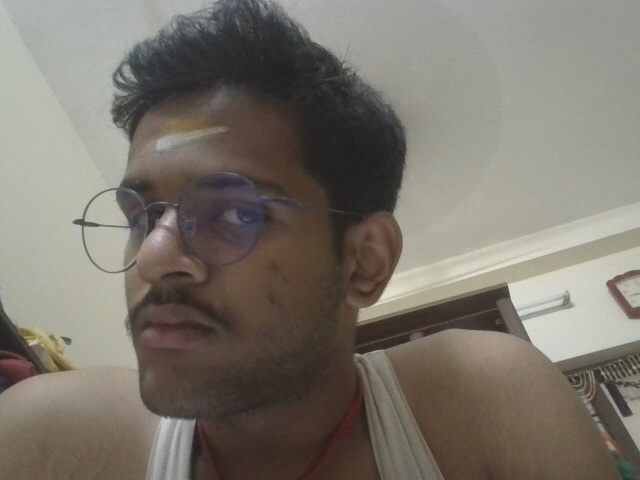real: (49, 95, 337, 383), (76, 204, 137, 265)
